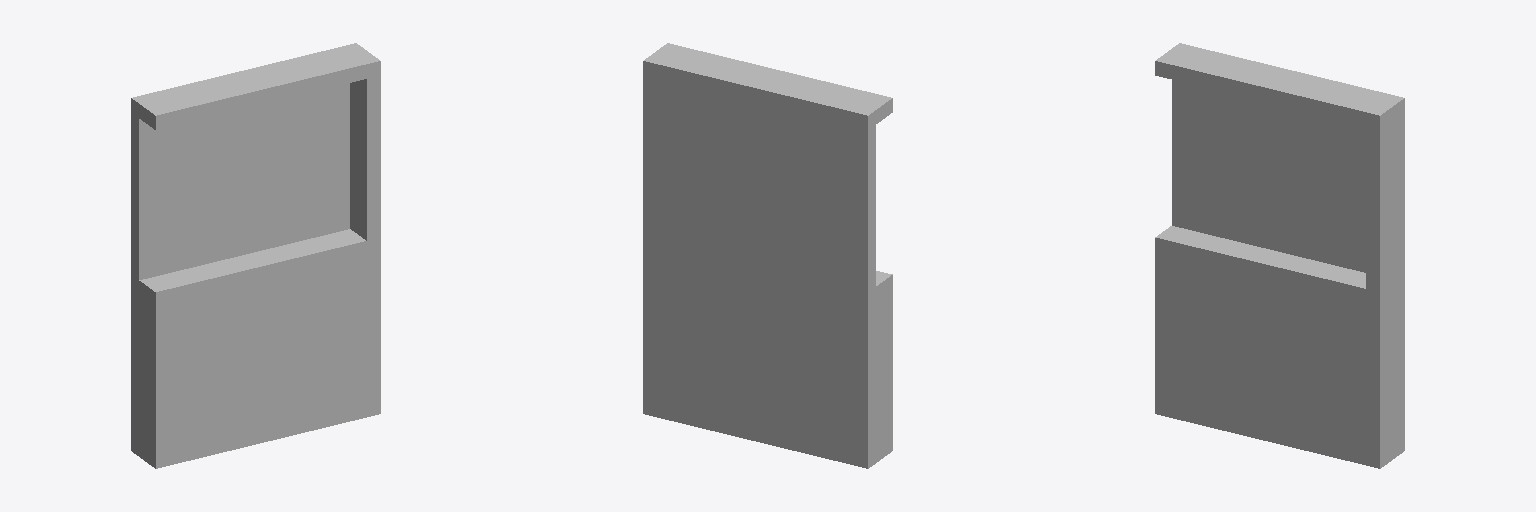
Rendered from 3D Voxel Office Pack-131.obj.
3 views of the same model, side by side, from view 1: azimuth 30°, elevation 25°; view 2: azimuth 150°, elevation 25°; view 3: azimuth 330°, elevation 25° (orthographic).
Parts seen in each view (by area): view 1: object 1; view 2: object 1; view 3: object 1.
Part boxes in pixels (left/top/right/bottom): object 1: left=131, top=43, right=380, bottom=468; object 1: left=643, top=43, right=892, bottom=468; object 1: left=1155, top=43, right=1404, bottom=468.
Bounding box in the file's own units: 1.6 × 2.4 × 0.3.